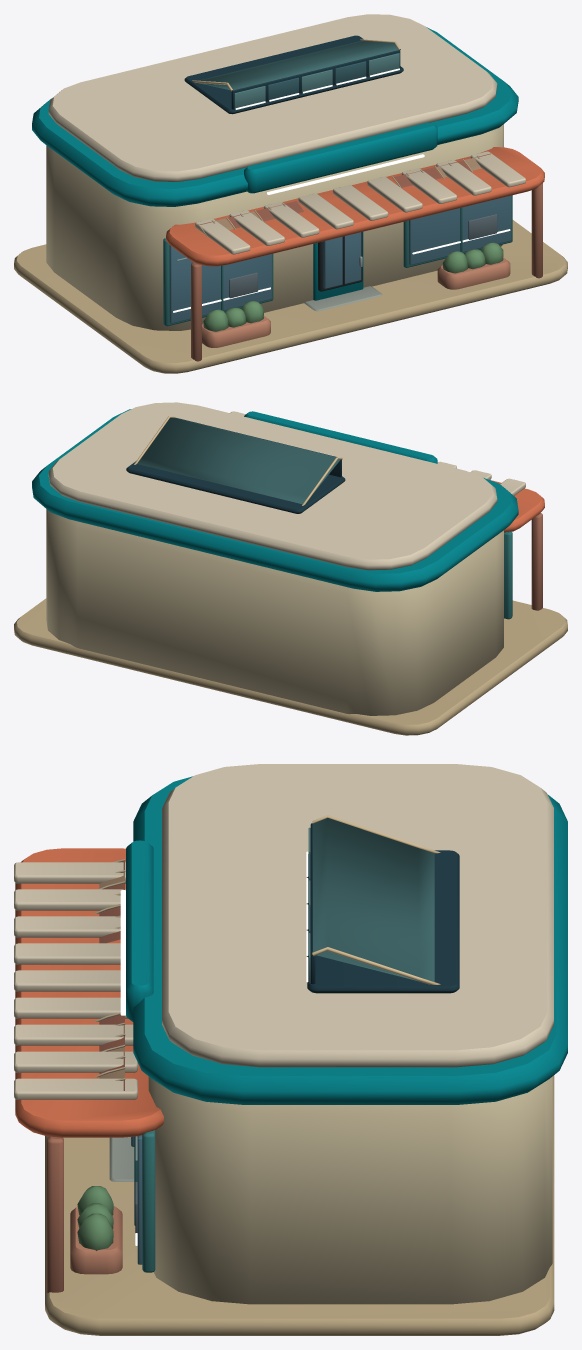
Rendered from ocean_restaurant.glb.
3 views of the same model, one above another, from view 1: azimuth 30°, elevation 25°; view 2: azimuth 150°, elevation 25°; view 3: azimuth 270°, elevation 25° (orthographic). The views are drawn at different scales.
Visible parts, largest first — view 1: Restaurant; view 2: Restaurant; view 3: Restaurant.
Part boxes in pixels (<box>): Restaurant: <box>14,14,567,373</box>; Restaurant: <box>14,402,567,735</box>; Restaurant: <box>14,764,567,1335</box>.
Size of the model in its own units: 9.54 by 4.23 by 6.76.
